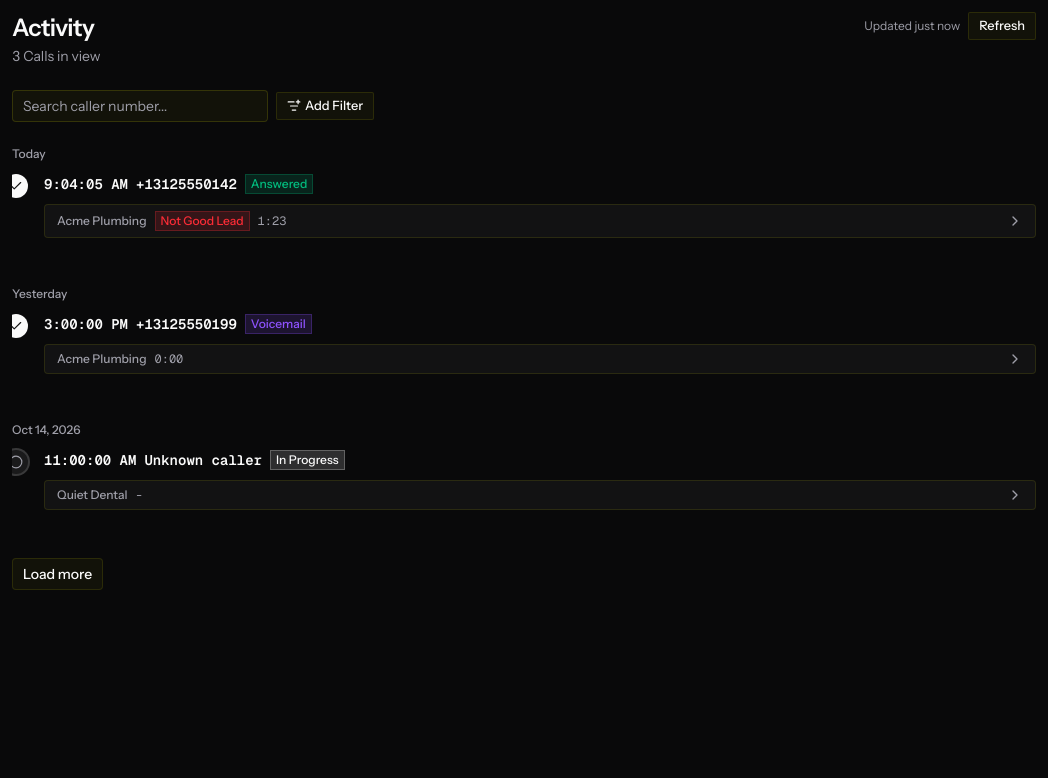
Scenario: ActivityView › expands an entry to show only the steps that occurred, each with one status Badge, and a neutral pending step
This screenshot has width=1048, height=778.
Step 1. Click the button "Acme Plumbing Not Good Lead 1:23" → [102, 220], box [45,205,1035,237]
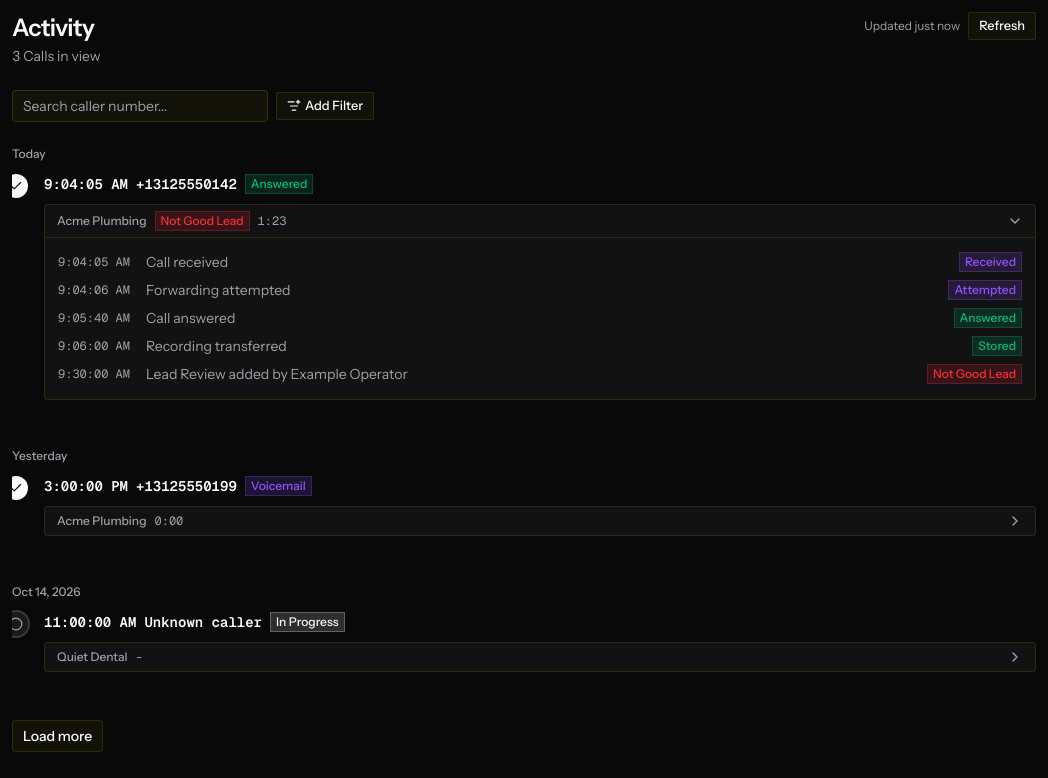
expect the text "9:04:05 AM" next to "Call received" is shown: met, box [58,254,130,270]
expect the text "Answered" in the row of "9:05:40 AM" is shown: met, box [960,310,1016,325]
expect the text "Not Good Lead" in the row of "9:30:00 AM" is shown: met, box [933,366,1016,381]
Step 2. Click the button "Acme Plumbing 0:00" → [102, 520], box [45,507,1035,535]
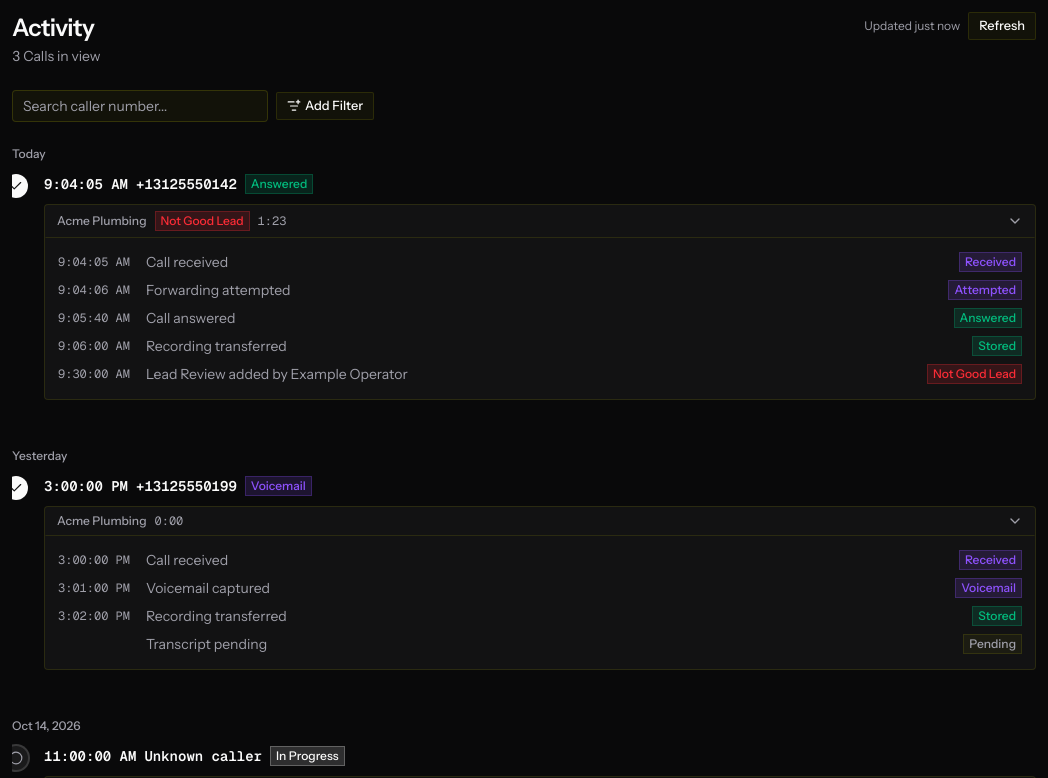
expect the list item "Transcript pending Pending" is shown: met, box [58,634,1022,654]
